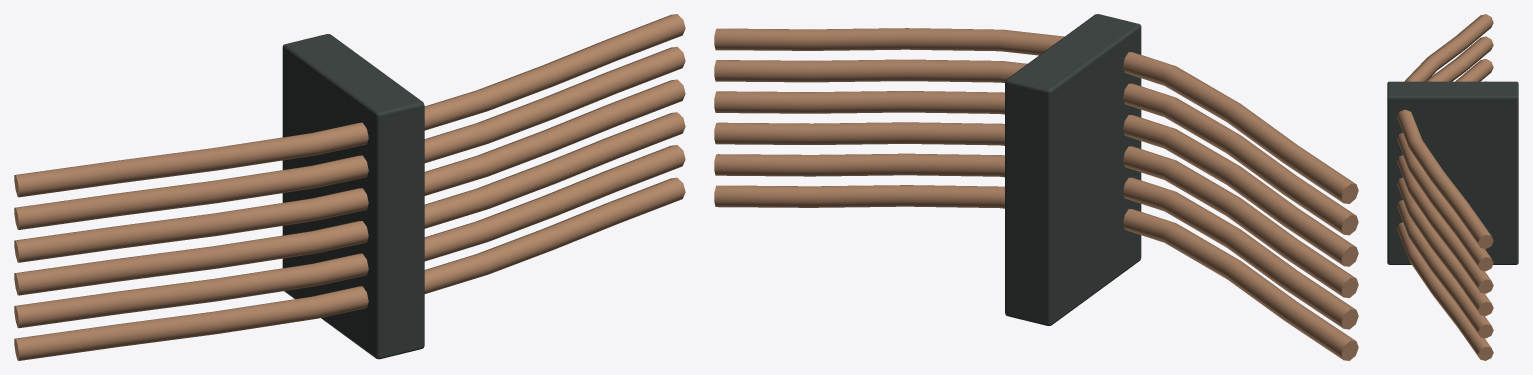
Rendered from scavengers-loot-library-wire-bundle-2958ef53__2604.glb.
The picture shows the model from 3 angles, left to right: view 1: azimuth 30°, elevation 25°; view 2: azimuth 150°, elevation 25°; view 3: azimuth 270°, elevation 25°; orthographic projection. The views are drawn at different scales.
Parts seen in each view (by area): view 1: wire-bundle; view 2: wire-bundle; view 3: wire-bundle.
Part boxes in pixels (x1,y1,x2,y2): wire-bundle: [14, 14, 685, 360]; wire-bundle: [714, 14, 1358, 360]; wire-bundle: [1387, 14, 1518, 360].
Bounding box in the file's own units: 0.1918 × 0.068 × 0.048.
